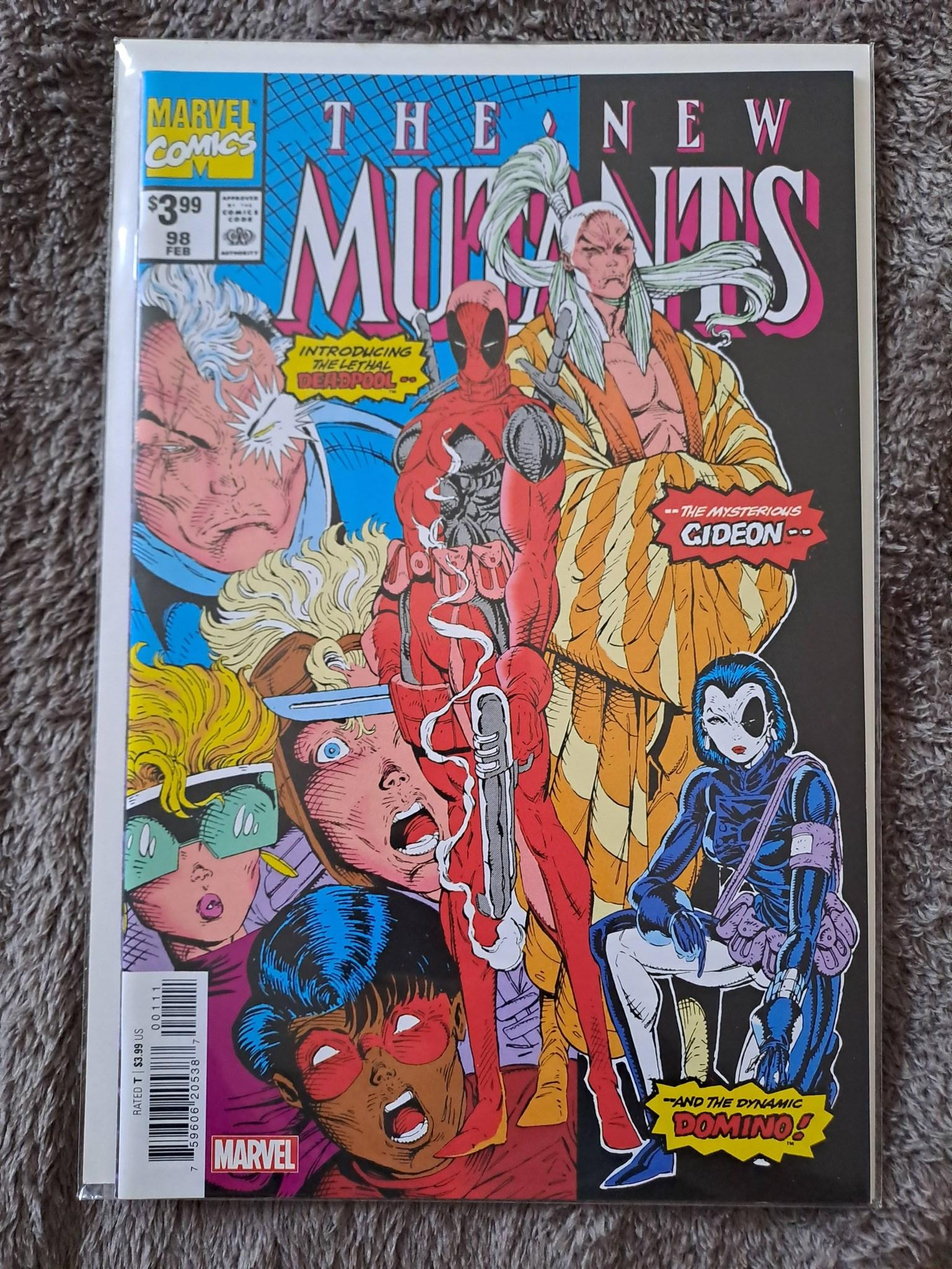comic: (82, 40, 886, 1204)
